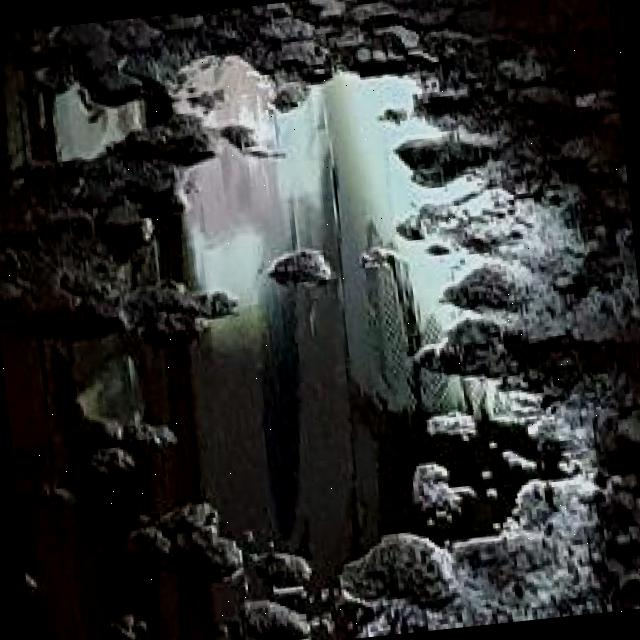stagnation: (0, 21, 558, 640)
